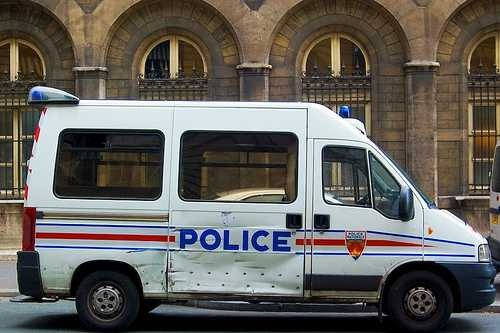Police Van: (15, 70, 500, 333)
